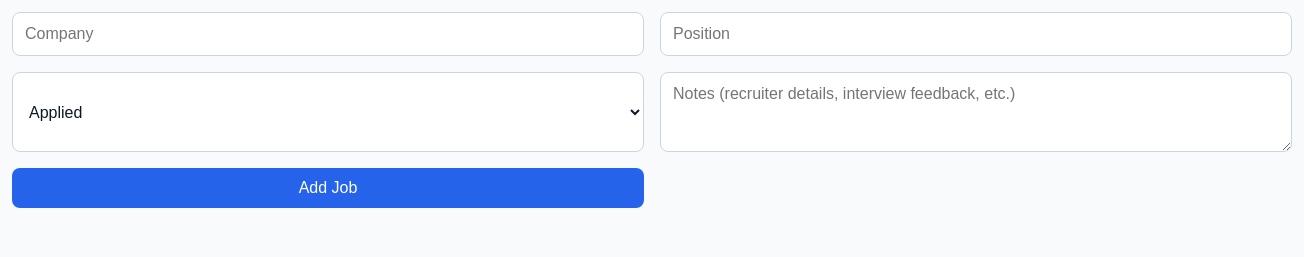
Test case: JobForm › should show an error when company and position are empty
Click the button "Add Job" at {"x": 328, "y": 188}, box [12, 168, 644, 208]
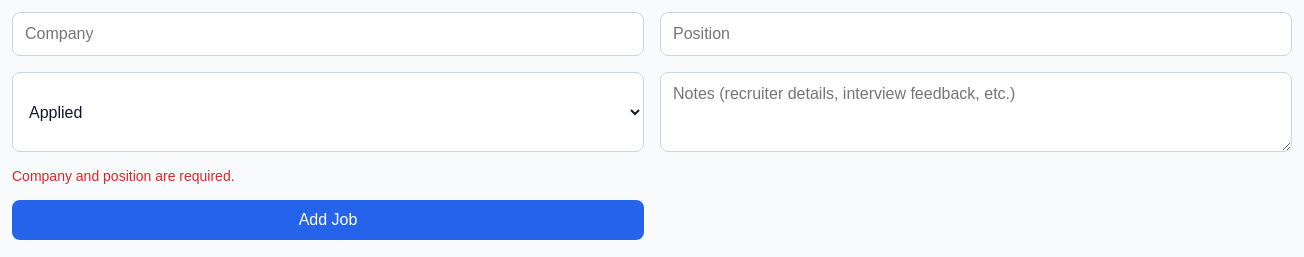
Result: the text "Company and position are required." is shown at [12, 168, 235, 184]
